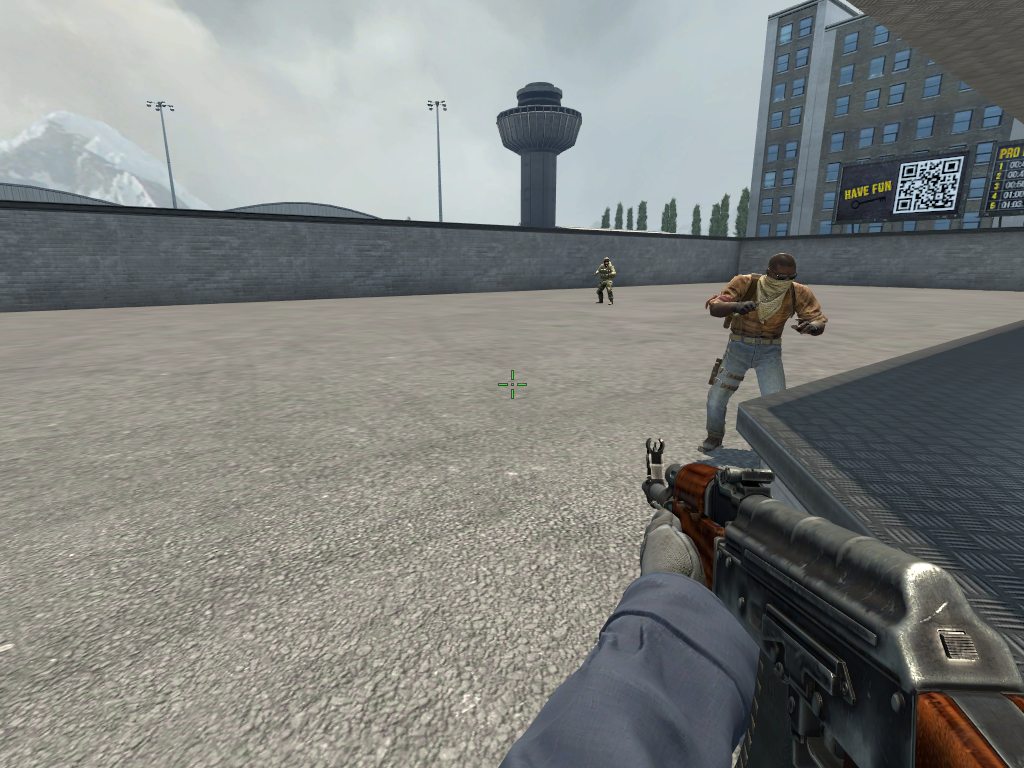ct head: (600, 256, 613, 270)
tr head: (764, 248, 801, 297)
